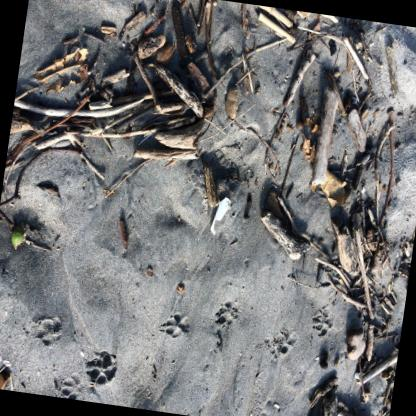Plastic: (209, 197, 230, 234), (353, 372, 359, 379)
